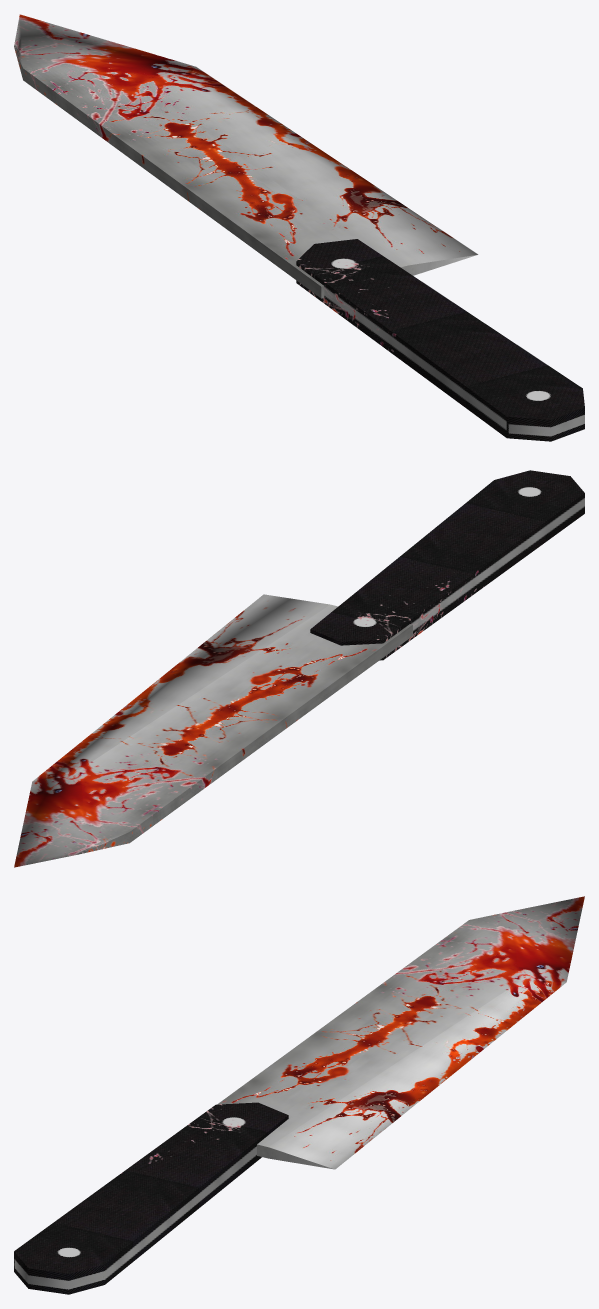
Rendered from Cuchillo.FBX.
3 views of the same model, one above another, from view 1: azimuth 30°, elevation 25°; view 2: azimuth 150°, elevation 25°; view 3: azimuth 330°, elevation 25° (orthographic). The views are drawn at different scales.
Visible parts, largest first — view 1: Cuchillo; view 2: Cuchillo; view 3: Cuchillo.
Part boxes in pixels (box(x1,y1,x2,y2)): Cuchillo: box(14, 14, 584, 441); Cuchillo: box(14, 470, 584, 867); Cuchillo: box(14, 896, 584, 1294).
Size of the model in its own units: 7 by 0.9225 by 43.1.
